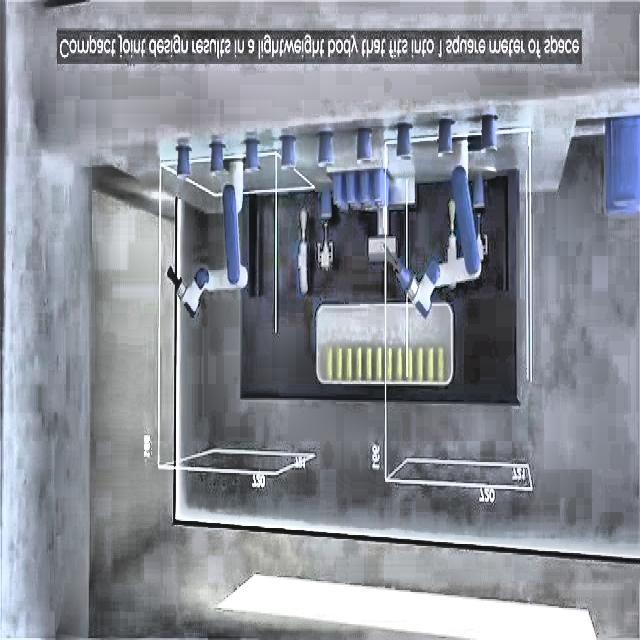robot: (383, 167, 485, 320), (166, 160, 248, 320)
